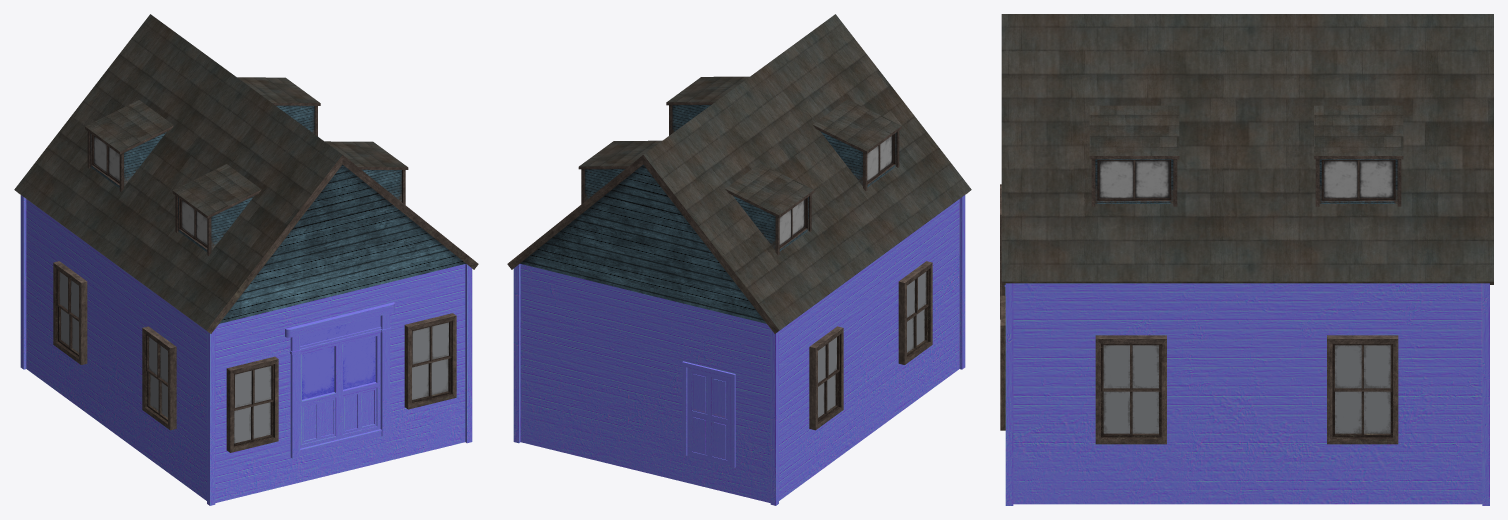
File: RoofTop_Background6.fbx
3 views of the same model, side by side, from view 1: azimuth 30°, elevation 25°; view 2: azimuth 150°, elevation 25°; view 3: azimuth 270°, elevation 25° (orthographic). The views are drawn at different scales.
Parts seen in each view (by area): view 1: t_002_b001_2_1, t_002_br001_sf_1, t_002_br_opt_03__1_, t_002_br_opt_03, window_001_3_1, window_001_1_1, window_001_4, window_001_2, t_002_br_opt_03__3_, t_002_br_opt_03__2_; view 2: t_002_b001_2_1, t_002_br001_sf_1, t002_door001, t_002_br_opt_03, t_002_br_opt_03__1_, window_001_2, window_001_4, t_002_br_opt_03__2_, t_002_br_opt_03__3_; view 3: t_002_br001_sf_1, t_002_b001_2_1, t_002_br_opt_03__3_, t_002_br_opt_03__2_, window_001_3, window_001_1, window_001_3_1.
Part boxes in pixels (x1,y1,x2,y2): t_002_b001_2_1: [20, 195, 472, 505]; t_002_br001_sf_1: [14, 14, 478, 333]; t_002_br_opt_03__1_: [85, 100, 173, 191]; t_002_br_opt_03: [172, 164, 261, 255]; window_001_3_1: [404, 313, 456, 409]; window_001_1_1: [226, 356, 278, 452]; window_001_4: [53, 261, 87, 364]; window_001_2: [142, 326, 176, 430]; t_002_br_opt_03__3_: [325, 141, 408, 204]; t_002_br_opt_03__2_: [237, 77, 320, 136]; t_002_b001_2_1: [513, 195, 965, 505]; t_002_br001_sf_1: [507, 14, 971, 333]; t002_door001: [682, 361, 735, 467]; t_002_br_opt_03: [813, 99, 901, 191]; t_002_br_opt_03__1_: [725, 163, 814, 255]; window_001_2: [898, 261, 932, 364]; window_001_4: [809, 326, 843, 430]; t_002_br_opt_03__2_: [578, 140, 661, 203]; t_002_br_opt_03__3_: [666, 76, 749, 135]; t_002_br001_sf_1: [1001, 14, 1493, 284]; t_002_b001_2_1: [1004, 283, 1489, 505]; t_002_br_opt_03__3_: [1089, 105, 1179, 206]; t_002_br_opt_03__2_: [1314, 105, 1403, 206]; window_001_3: [1327, 335, 1398, 444]; window_001_1: [1095, 335, 1166, 444]; window_001_3_1: [1000, 295, 1005, 430].
Size of the model in its own units: 821 by 922 by 1006.
